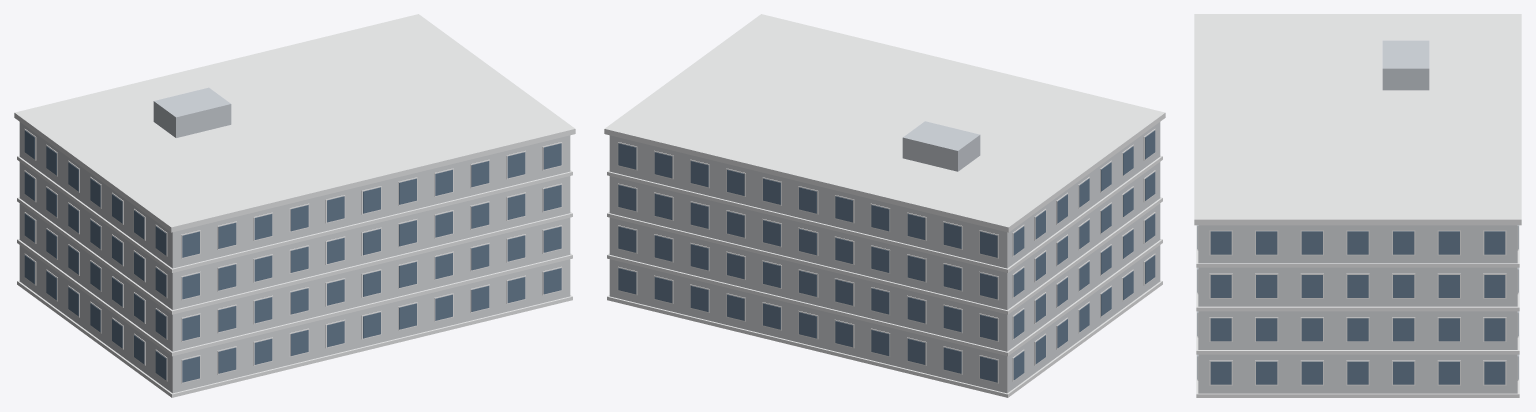
File: harbor_point_rect_4f.glb
3 renders of one model, left to right at view 1: azimuth 30°, elevation 25°; view 2: azimuth 150°, elevation 25°; view 3: azimuth 270°, elevation 25°, orthographic. The views are drawn at different scales.
Visible parts, largest first — view 1: Slabs, Windows, Floor.002, Floor.001, Floor.003, Floor.004, Window_Frames, Roof_Plant; view 2: Slabs, Windows, Floor.002, Floor.001, Floor.003, Floor.004, Window_Frames, Roof_Plant; view 3: Slabs, Windows, Floor.001, Floor.003, Floor.004, Floor.002, Window_Frames, Roof_Plant.
Boxes of the visible parts, <box> form: Slabs: <box>14,14,575,397</box>; Windows: <box>24,130,561,382</box>; Floor.002: <box>19,203,570,351</box>; Floor.001: <box>19,245,570,393</box>; Floor.003: <box>19,162,570,309</box>; Floor.004: <box>19,122,570,268</box>; Window_Frames: <box>24,129,562,383</box>; Roof_Plant: <box>153,87,231,137</box>; Slabs: <box>604,14,1165,397</box>; Windows: <box>618,130,1155,382</box>; Floor.002: <box>609,203,1160,351</box>; Floor.001: <box>609,245,1160,393</box>; Floor.003: <box>609,162,1160,309</box>; Floor.004: <box>609,122,1160,268</box>; Window_Frames: <box>617,129,1155,383</box>; Roof_Plant: <box>902,121,980,171</box>; Slabs: <box>1194,14,1521,397</box>; Windows: <box>1197,225,1518,384</box>; Floor.001: <box>1198,354,1517,393</box>; Floor.003: <box>1198,267,1517,306</box>; Floor.004: <box>1198,225,1517,263</box>; Floor.002: <box>1198,311,1517,349</box>; Window_Frames: <box>1197,225,1518,385</box>; Roof_Plant: <box>1382,40,1429,90</box>.
Size of the model in its own units: 3.66 by 1.66 by 2.46.
